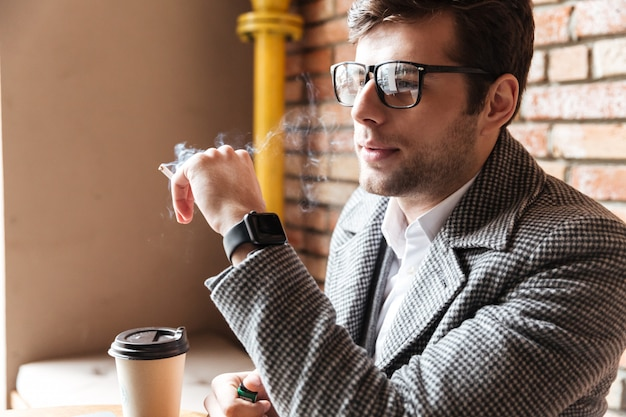cigarette: (157, 162, 177, 181)
